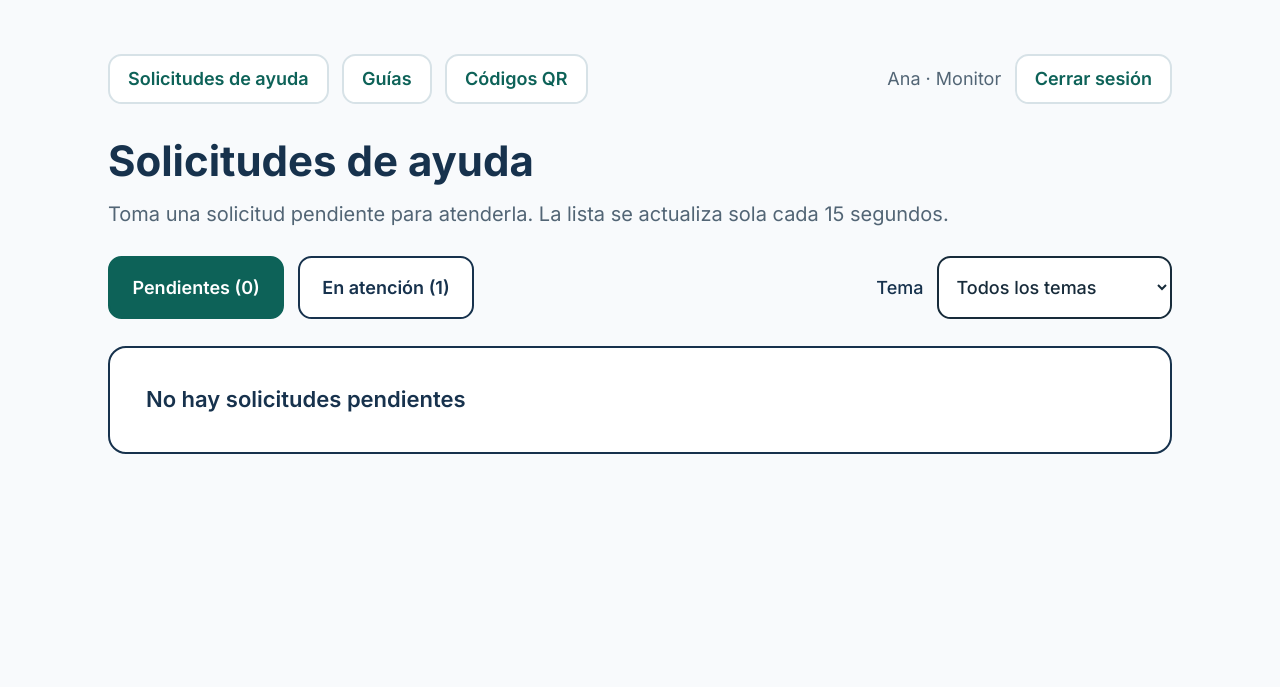
ColaSolicitudesPage › resolver solicitud › 403 de otro monitor: lo informa, cierra y recarga sin falsear estados
The width and height of the screenshot is (1280, 687).
expect the text "No hay solicitudes pendientes" is shown: met, box [108,346,1172,454]
Step 1. Click the button "En atención (1)" → [386, 288], box [298,256,474,319]
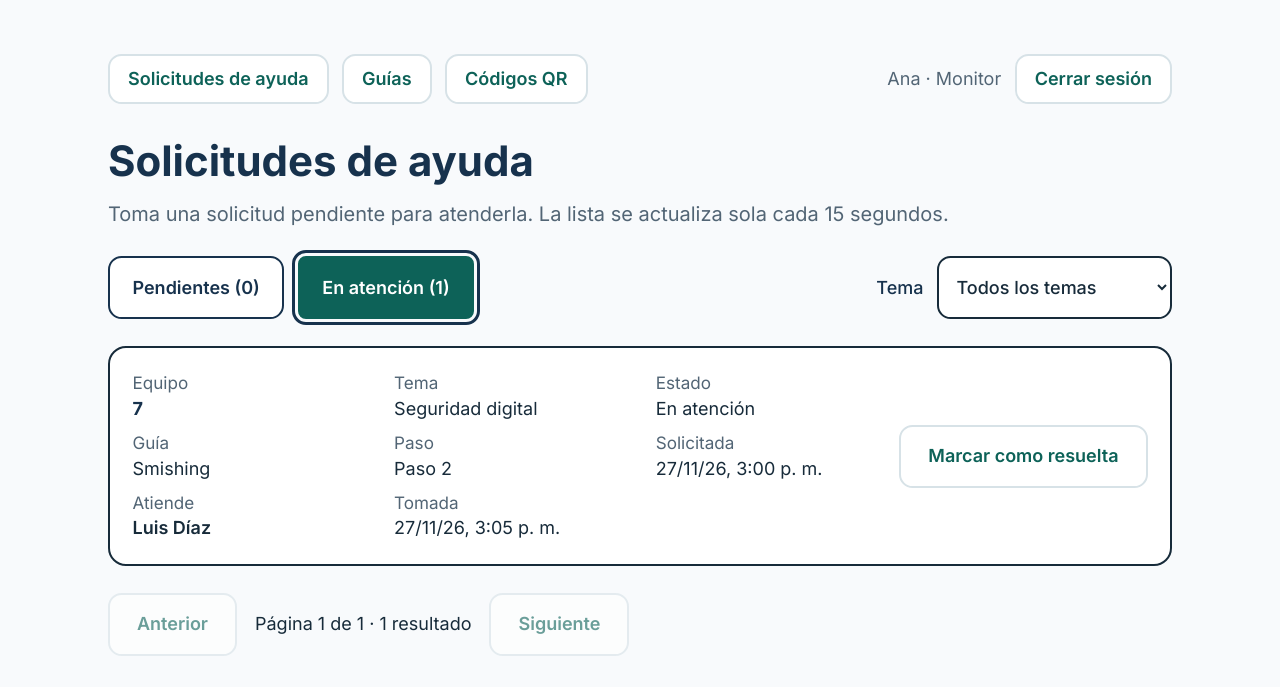
Step 2. Click the button "Marcar como resuelta" → [1023, 456], box [899,425,1148,488]
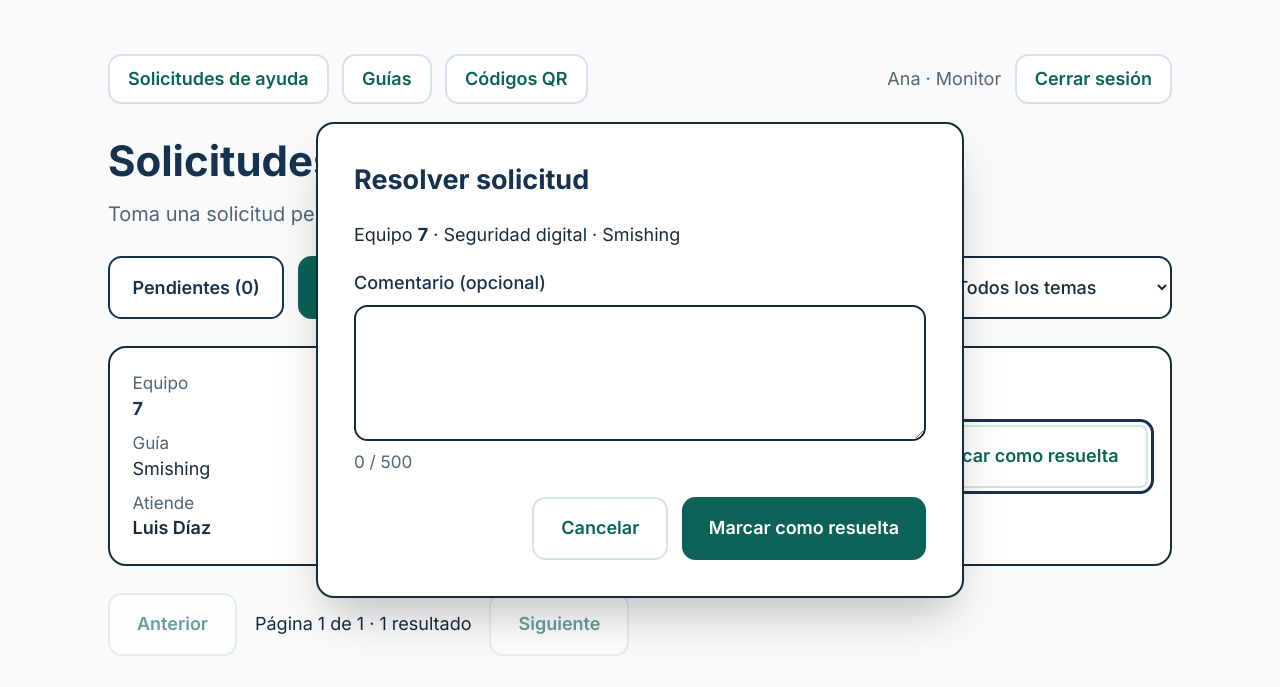
Step 3. Click the button "Marcar como resuelta" below "Comentario (opcional)" → [804, 528], box [682,497,926,560]
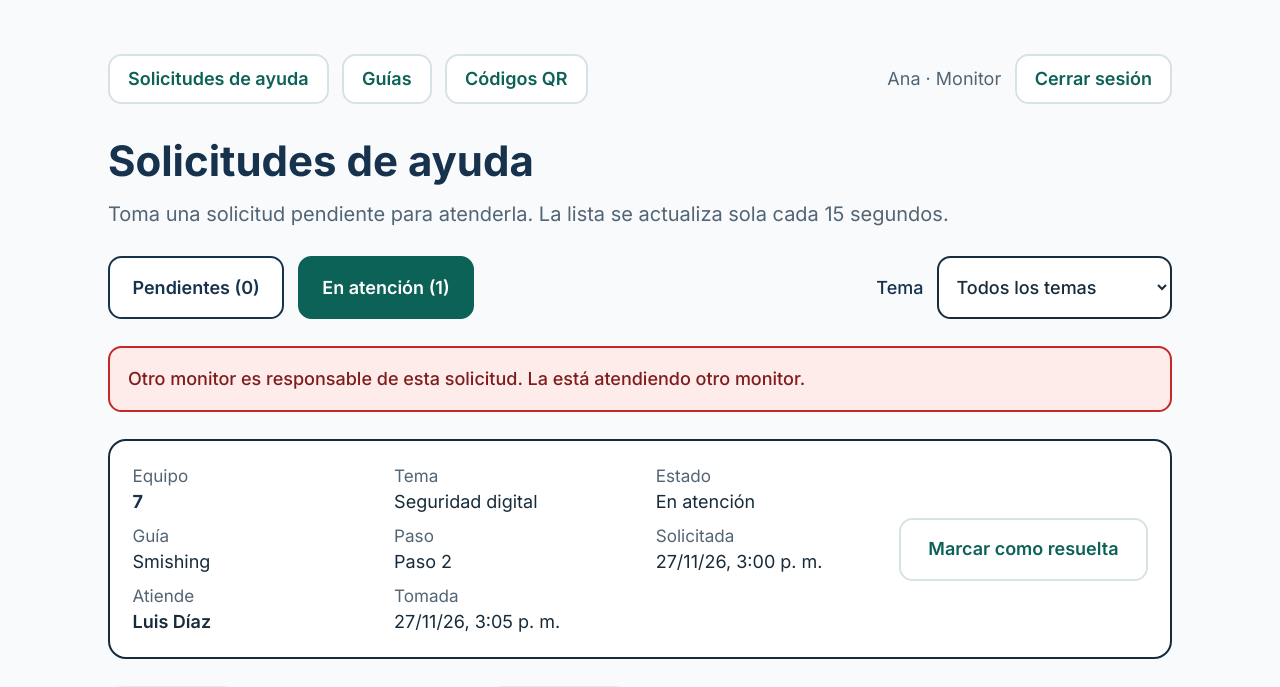
expect the text "Luis Díaz" is shown: met, box [132,610,211,632]
expect the message shows "Otro monitor es responsable": met, box [128,368,805,389]
